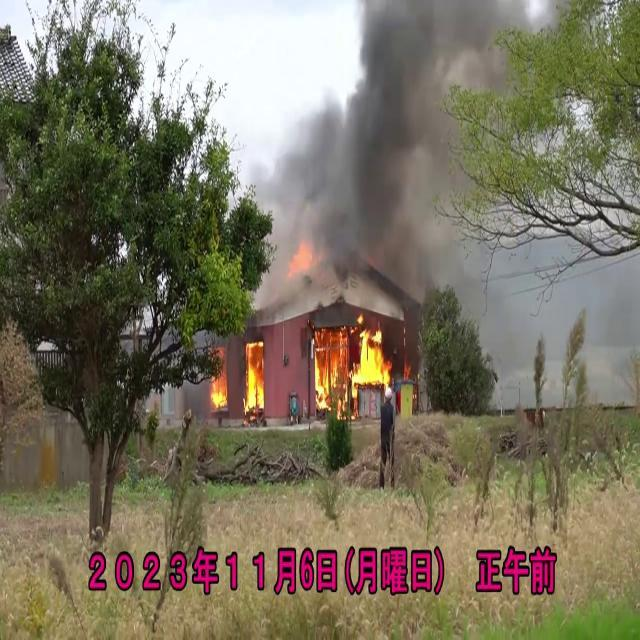Fire: (312, 308, 394, 409), (241, 333, 266, 415)
Smoke: (260, 0, 502, 306)
